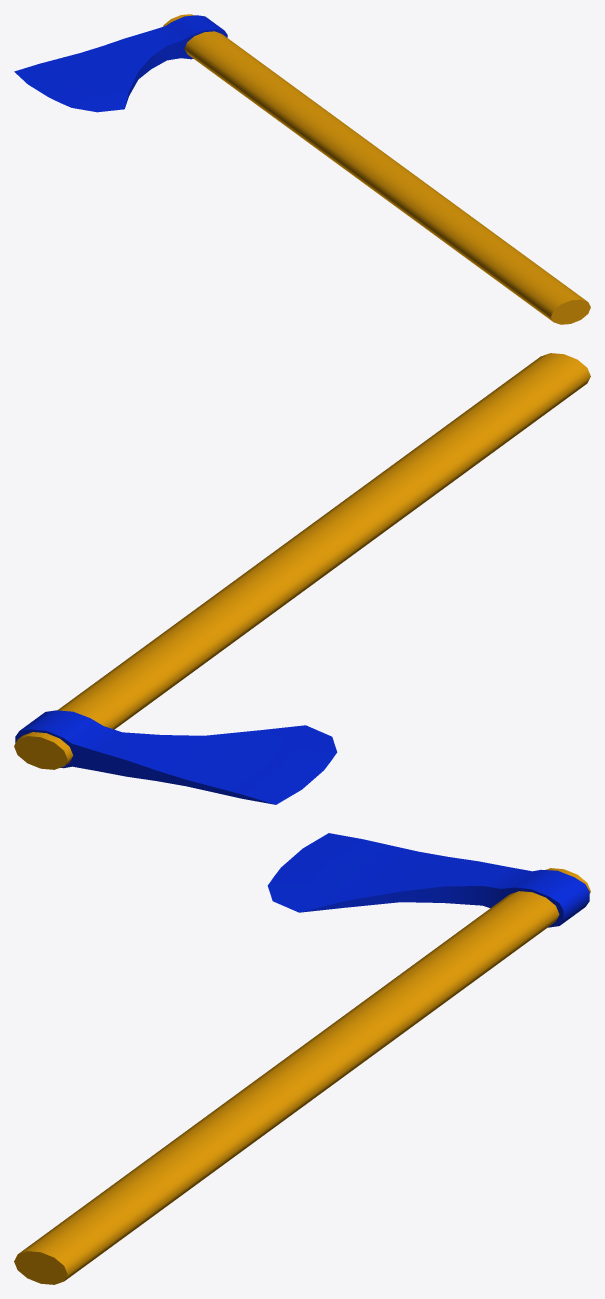
Rendered from Troop_Axe.fbx.
The picture shows the model from 3 angles, top to bottom: view 1: azimuth 30°, elevation 25°; view 2: azimuth 150°, elevation 25°; view 3: azimuth 330°, elevation 25°; orthographic projection. The views are drawn at different scales.
Parts seen in each view (by area): view 1: Plane; view 2: Plane; view 3: Plane.
Boxes of the visible parts, box(x1,y1,x2,y2) form: Plane: box(14, 14, 590, 324); Plane: box(14, 353, 590, 804); Plane: box(14, 833, 590, 1284).
Size of the model in its own units: 224 by 29.97 by 768.
